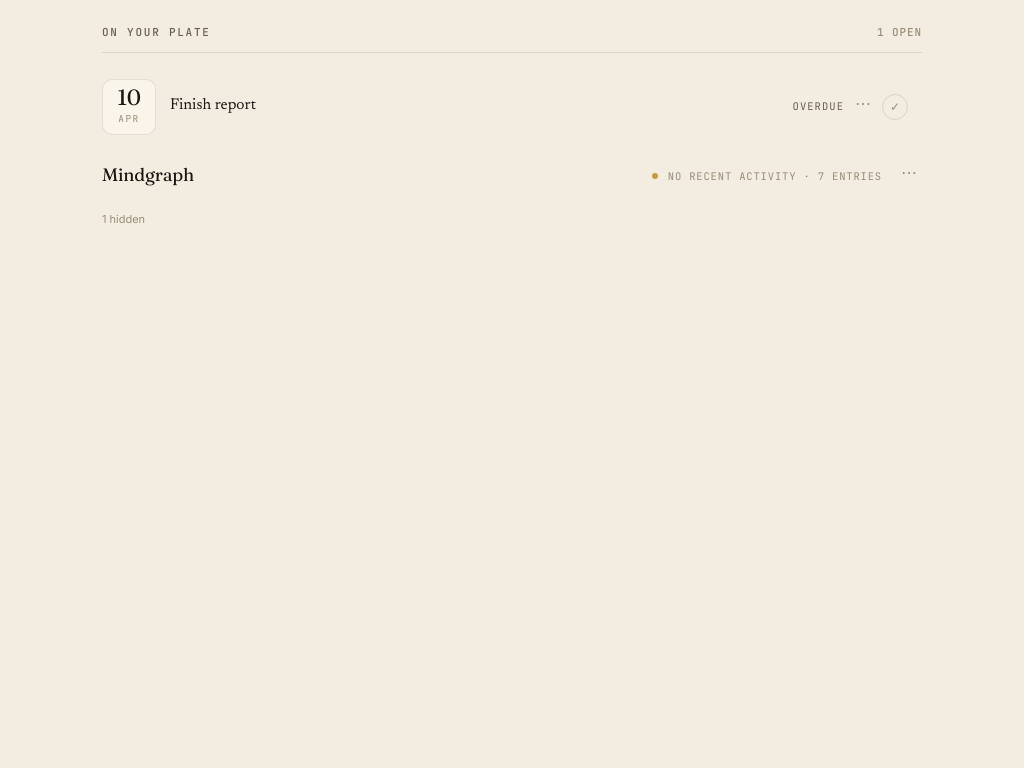
Test: Journal single-page life view › marks a deadline as done in shared progress immediately and rolls back on failure
Expected: the text "Finish report" is shown, [170,98,256,113]
Click the button named "mark done: finish report" at (895, 107), box [882,94,908,120]
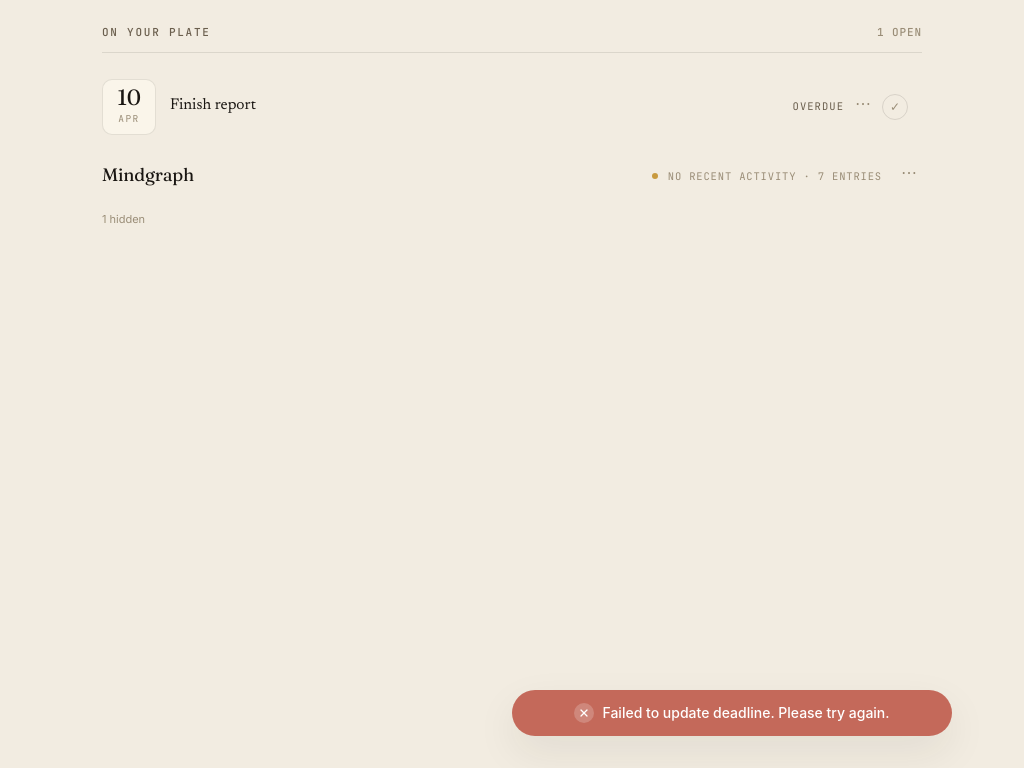
Expected: the text "Finish report" is shown, [170,98,256,113]
Now the text "Failed to update deadline. Please try again." is shown, box [602,702,890,724]
